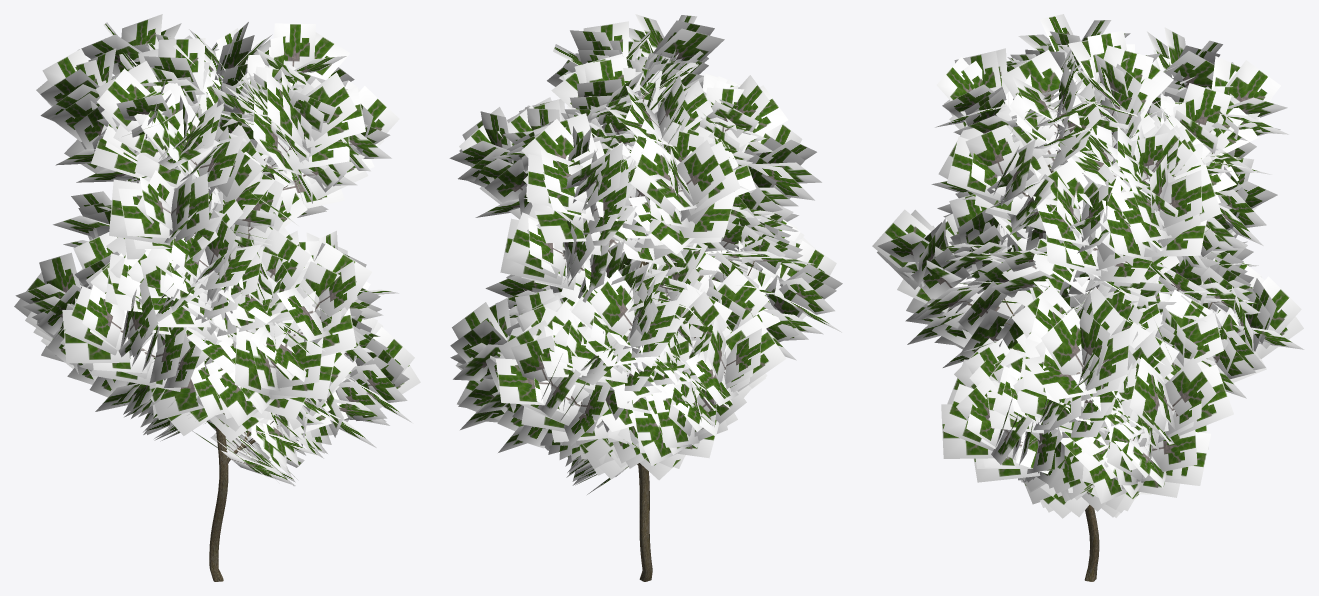
The model's file is real_tree_models.glb.
3 views of the same model, side by side, from view 1: azimuth 30°, elevation 25°; view 2: azimuth 150°, elevation 25°; view 3: azimuth 270°, elevation 25° (orthographic). The views are drawn at different scales.
Visible parts, largest first — view 1: Maple_1; view 2: Maple_1; view 3: Maple_1.
Boxes of the visible parts, x1,y1,x2,y2 form: Maple_1: [14, 14, 420, 581]; Maple_1: [449, 14, 842, 581]; Maple_1: [872, 14, 1304, 581].
Size of the model in its own units: 11.8 by 17.87 by 12.86.
Materials: 2 (2 with a texture image).
